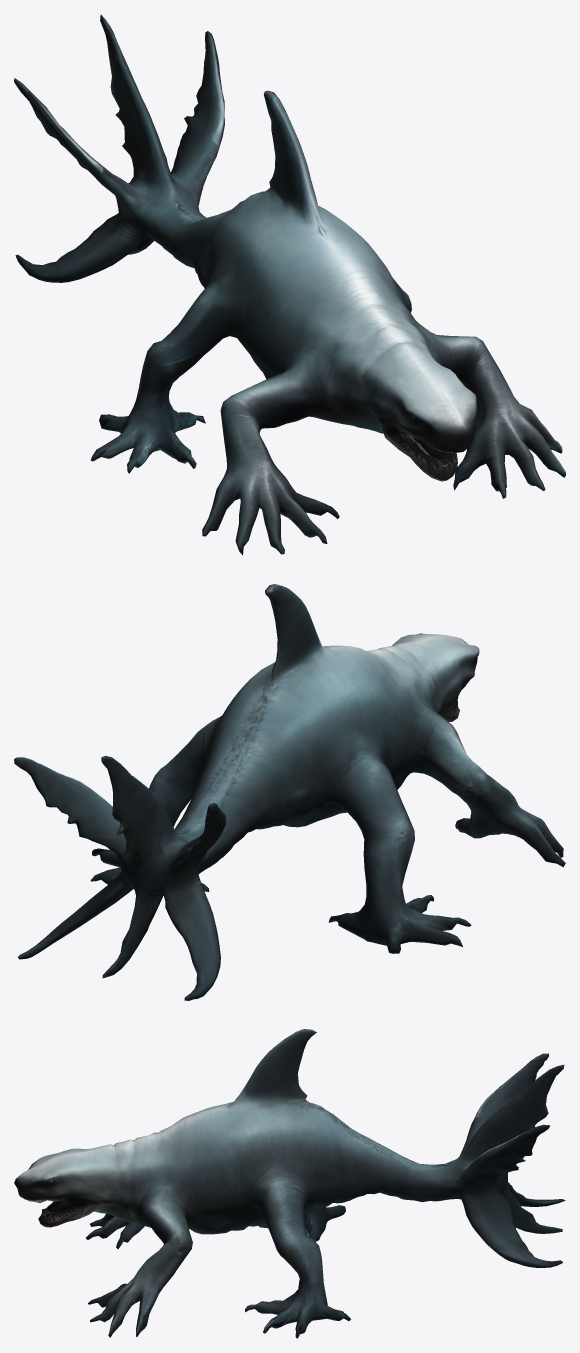
Rendered from Monstrous_creature_wa_0815191413_texture.fbx.
3 views of the same model, one above another, from view 1: azimuth 30°, elevation 25°; view 2: azimuth 150°, elevation 25°; view 3: azimuth 270°, elevation 25° (orthographic). The views are drawn at different scales.
Parts seen in each view (by area): view 1: Mesh1.0; view 2: Mesh1.0; view 3: Mesh1.0.
Part boxes in pixels (<box>): Mesh1.0: <box>14,14,565,555</box>; Mesh1.0: <box>14,584,565,1000</box>; Mesh1.0: <box>14,1029,565,1338</box>.
Size of the model in its own units: 118 by 99.69 by 201.
Materials: 1 (1 with a texture image).
